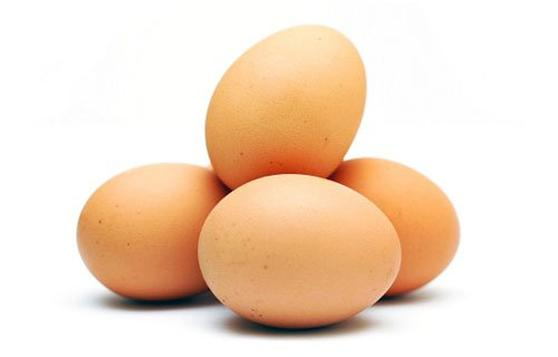egg: (196, 172, 402, 341), (208, 31, 371, 196)
